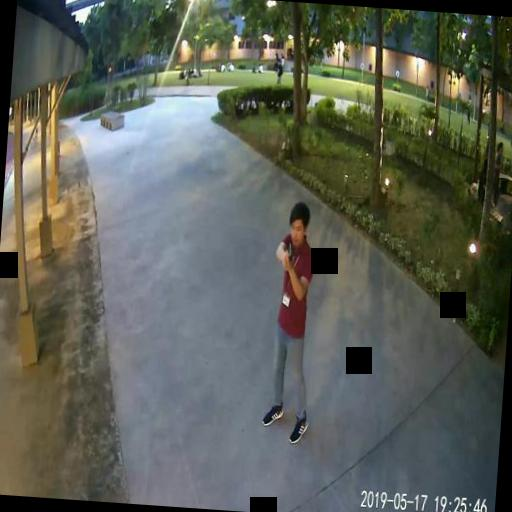Handgun: (283, 240, 294, 270)
